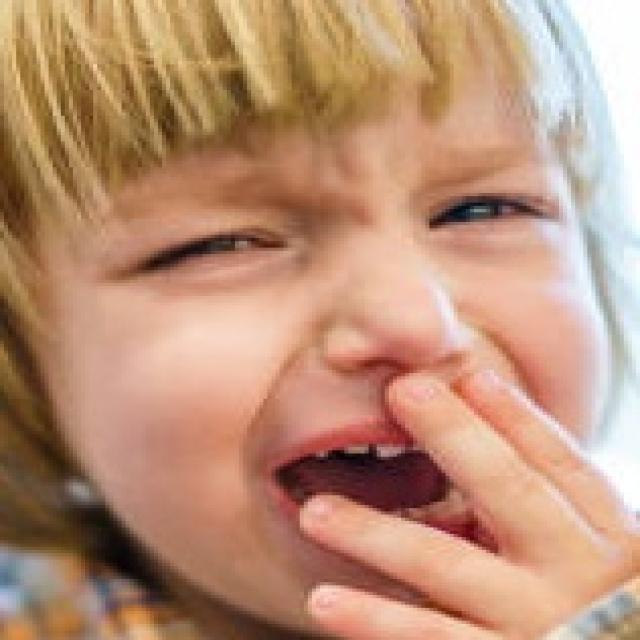Anxiety: (23, 12, 620, 637)
